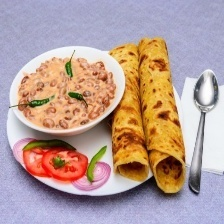roti: (111, 39, 190, 195)
